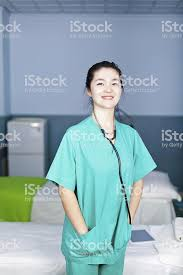asian_female: (83, 59, 121, 114)
